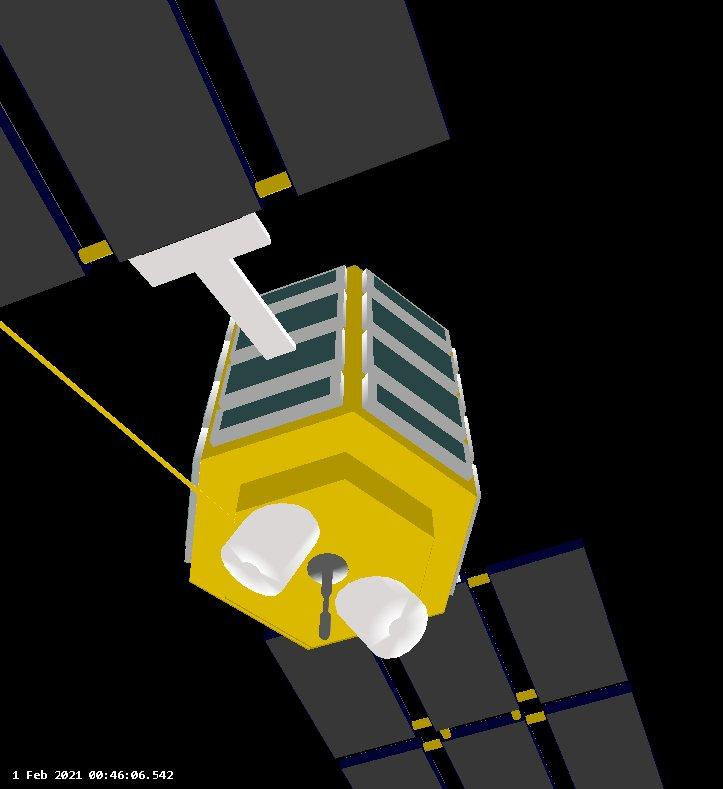antenna: (0, 318, 209, 503), (305, 552, 351, 641)
body: (182, 263, 486, 651)
solar: (0, 1, 453, 363), (264, 541, 666, 789)
thruster: (219, 503, 323, 597), (332, 572, 431, 664)
